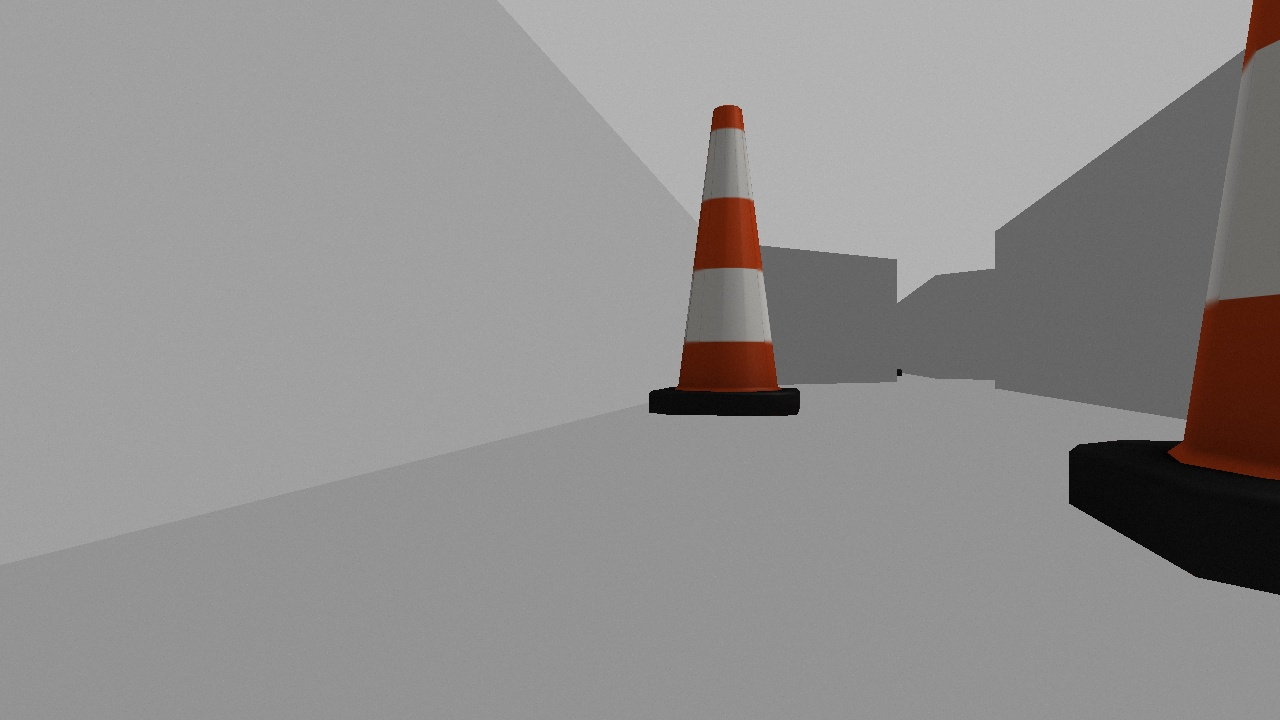barricade: (1053, 1, 1280, 606), (633, 99, 815, 427)
